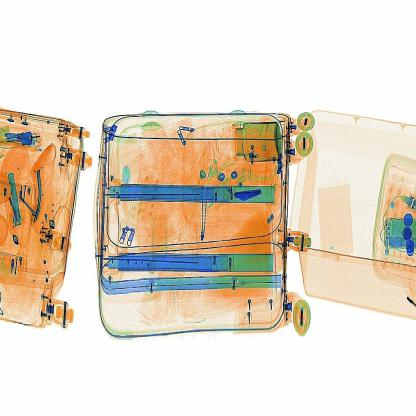knife: (227, 186, 265, 206)
